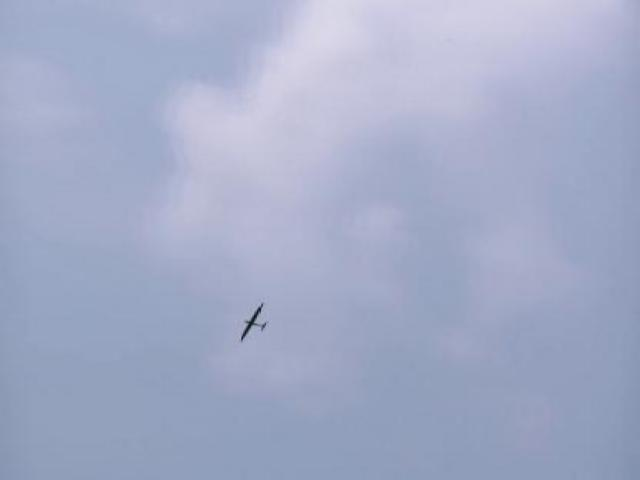uav: (235, 298, 270, 344)
